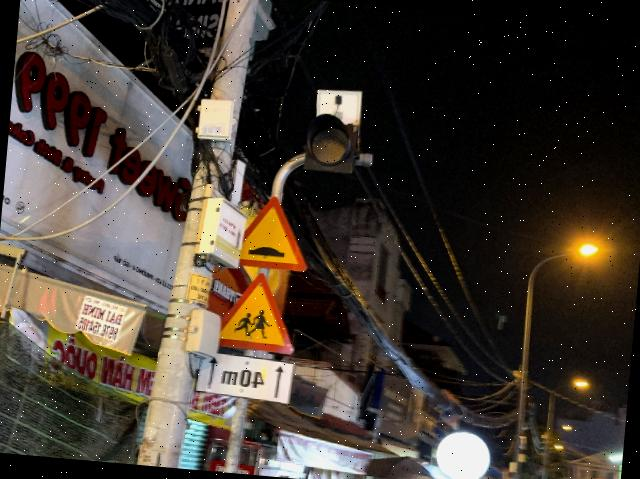duong-co-go-giam-toc: (235, 192, 312, 272)
tre-em-qua-duong: (218, 268, 300, 356)
